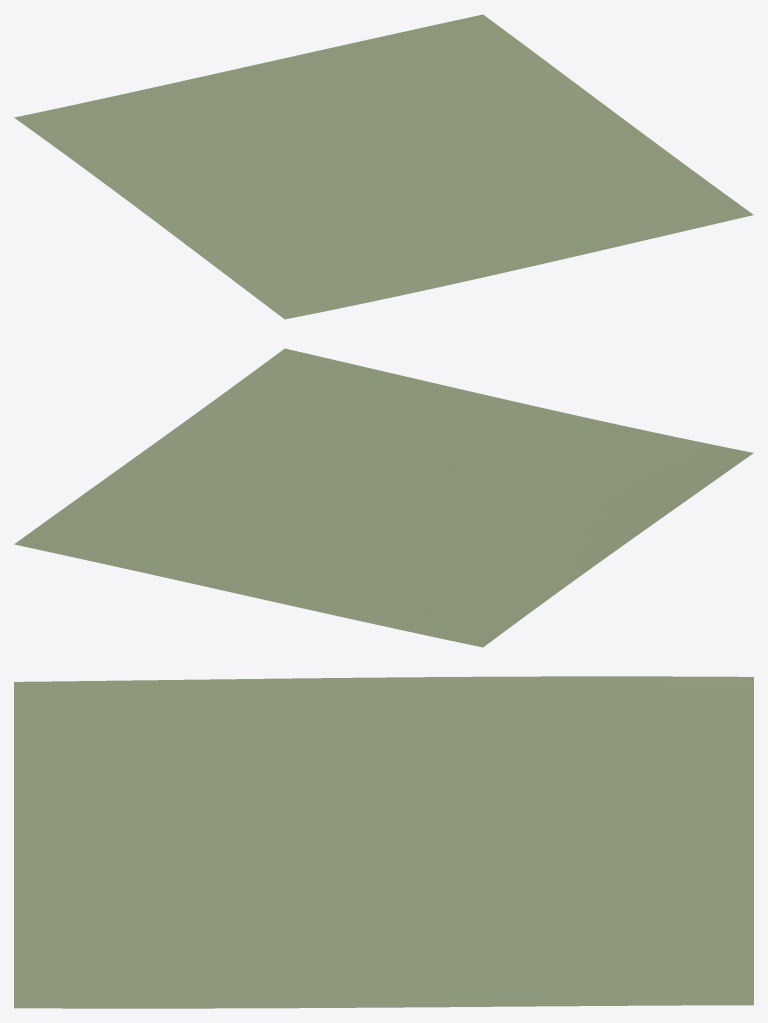
Rendered from expanse-17-7.glb.
The picture shows the model from 3 angles, top to bottom: view 1: azimuth 30°, elevation 25°; view 2: azimuth 150°, elevation 25°; view 3: azimuth 270°, elevation 25°; orthographic projection. The views are drawn at different scales.
Parts seen in each view (by area): view 1: expanse-17-7; view 2: expanse-17-7; view 3: expanse-17-7.
Part boxes in pixels (x1,y1,x2,y2): expanse-17-7: [14, 14, 753, 319]; expanse-17-7: [14, 348, 753, 647]; expanse-17-7: [14, 676, 753, 1008].
Bounding box in the file's own units: 256 × 7.44 × 256.
